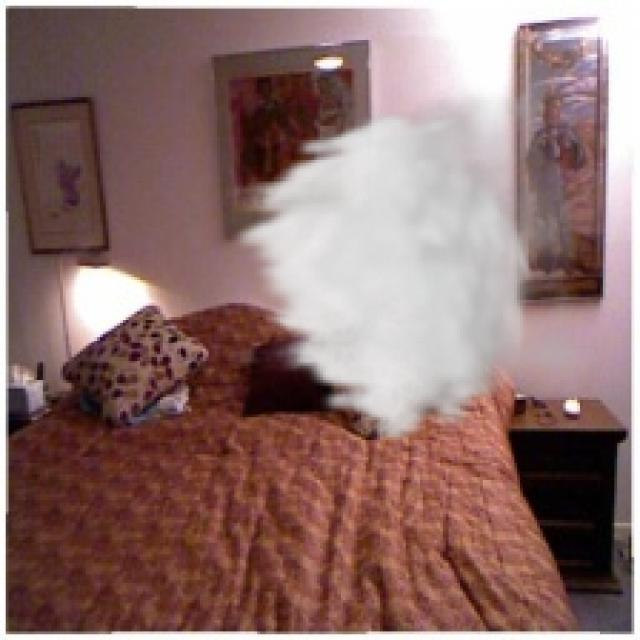smoke: (225, 40, 606, 446)
